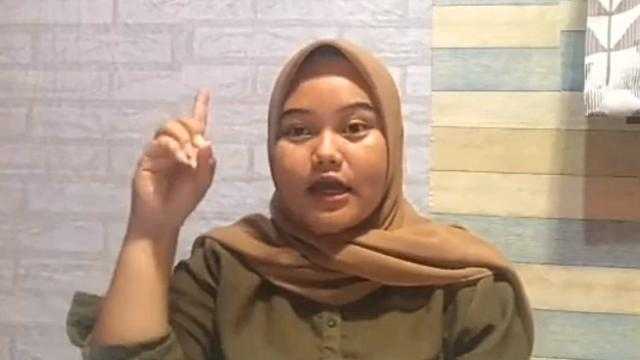D: (132, 87, 216, 215)
